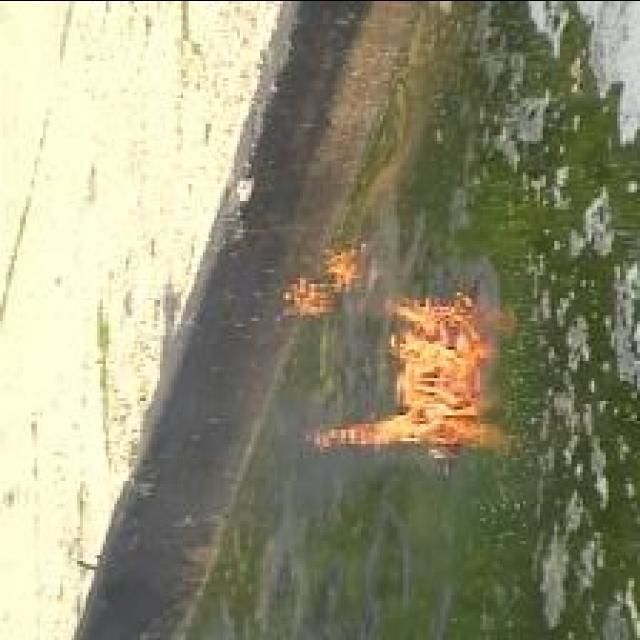Fire: (312, 300, 499, 446), (283, 242, 360, 318)
